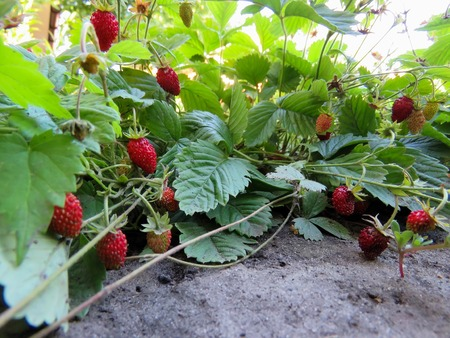ripe: (43, 184, 85, 241), (94, 223, 128, 272), (87, 10, 120, 53), (126, 132, 158, 176), (356, 223, 390, 261), (408, 206, 438, 238), (154, 63, 181, 96), (331, 185, 359, 216), (390, 92, 413, 124), (152, 183, 176, 213)
unripe: (144, 218, 173, 254), (77, 49, 100, 75), (407, 108, 425, 136), (421, 95, 440, 121), (313, 110, 331, 136), (69, 120, 90, 142)
